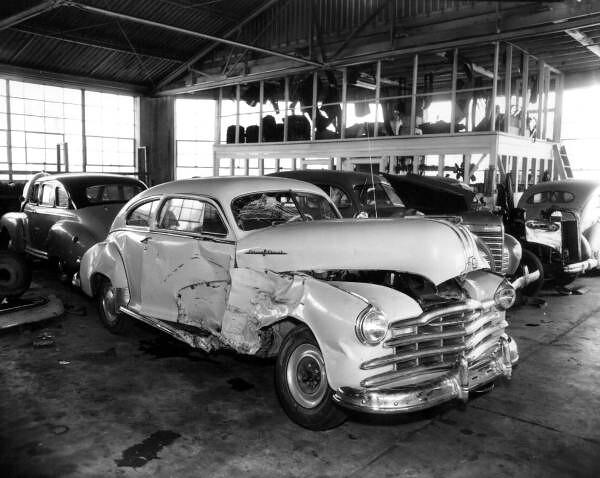RunningBoard-Dent: (115, 310, 246, 357)
bonnet-dent: (267, 210, 494, 297)
doorouter-dent: (145, 244, 243, 334)
fender-dent: (237, 250, 380, 373)
